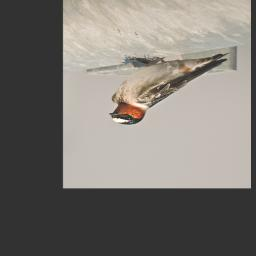Swallow: (108, 52, 231, 126)
